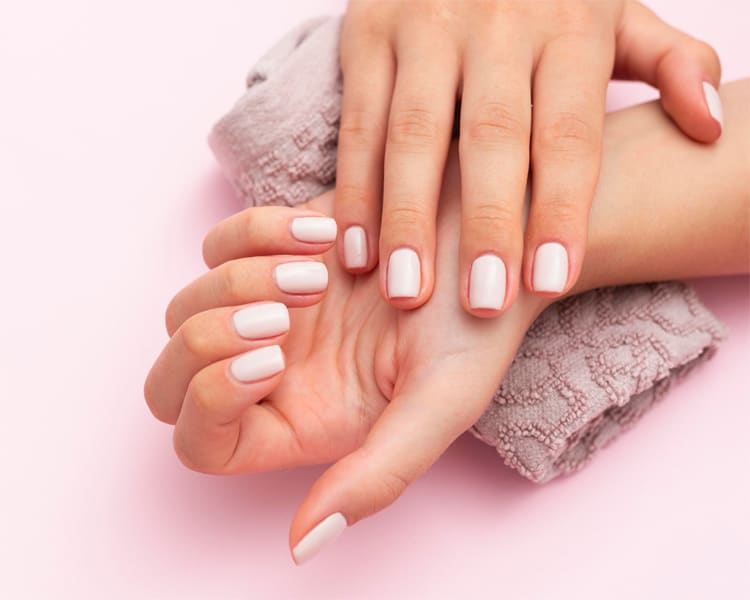nails: (288, 508, 352, 569), (464, 246, 508, 314), (228, 297, 291, 342), (270, 256, 334, 299), (529, 237, 573, 297), (226, 342, 287, 384), (384, 245, 424, 302), (289, 210, 342, 249), (699, 75, 729, 137), (340, 223, 374, 272)
